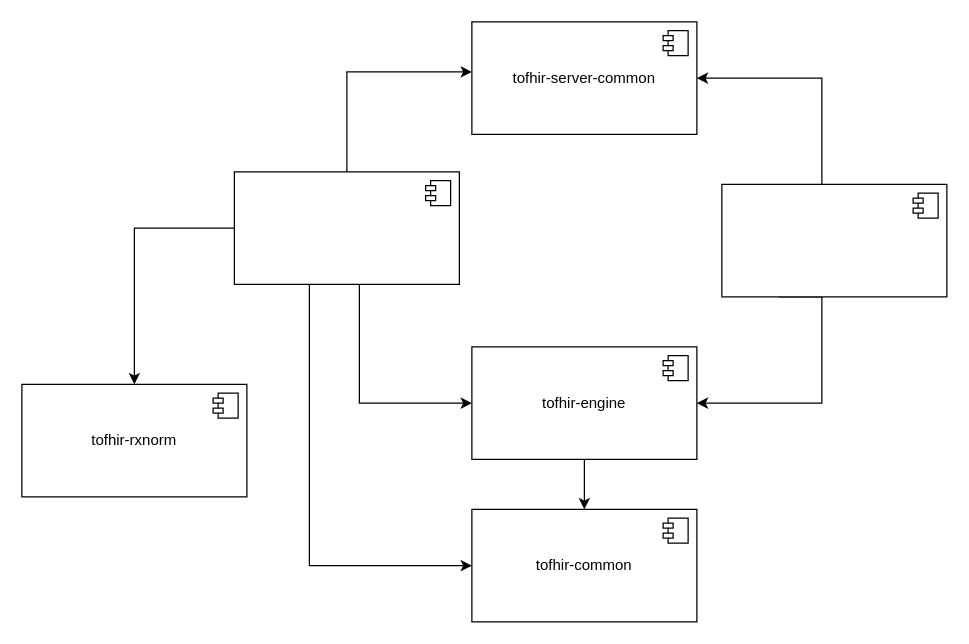
This 969x644 diagram has some shape labels left out. Here are the shapes that lost their labels. From the top down, the centre of each, then its label:
(346,227): tofhir-server
(834,240): tofhir-log-server
